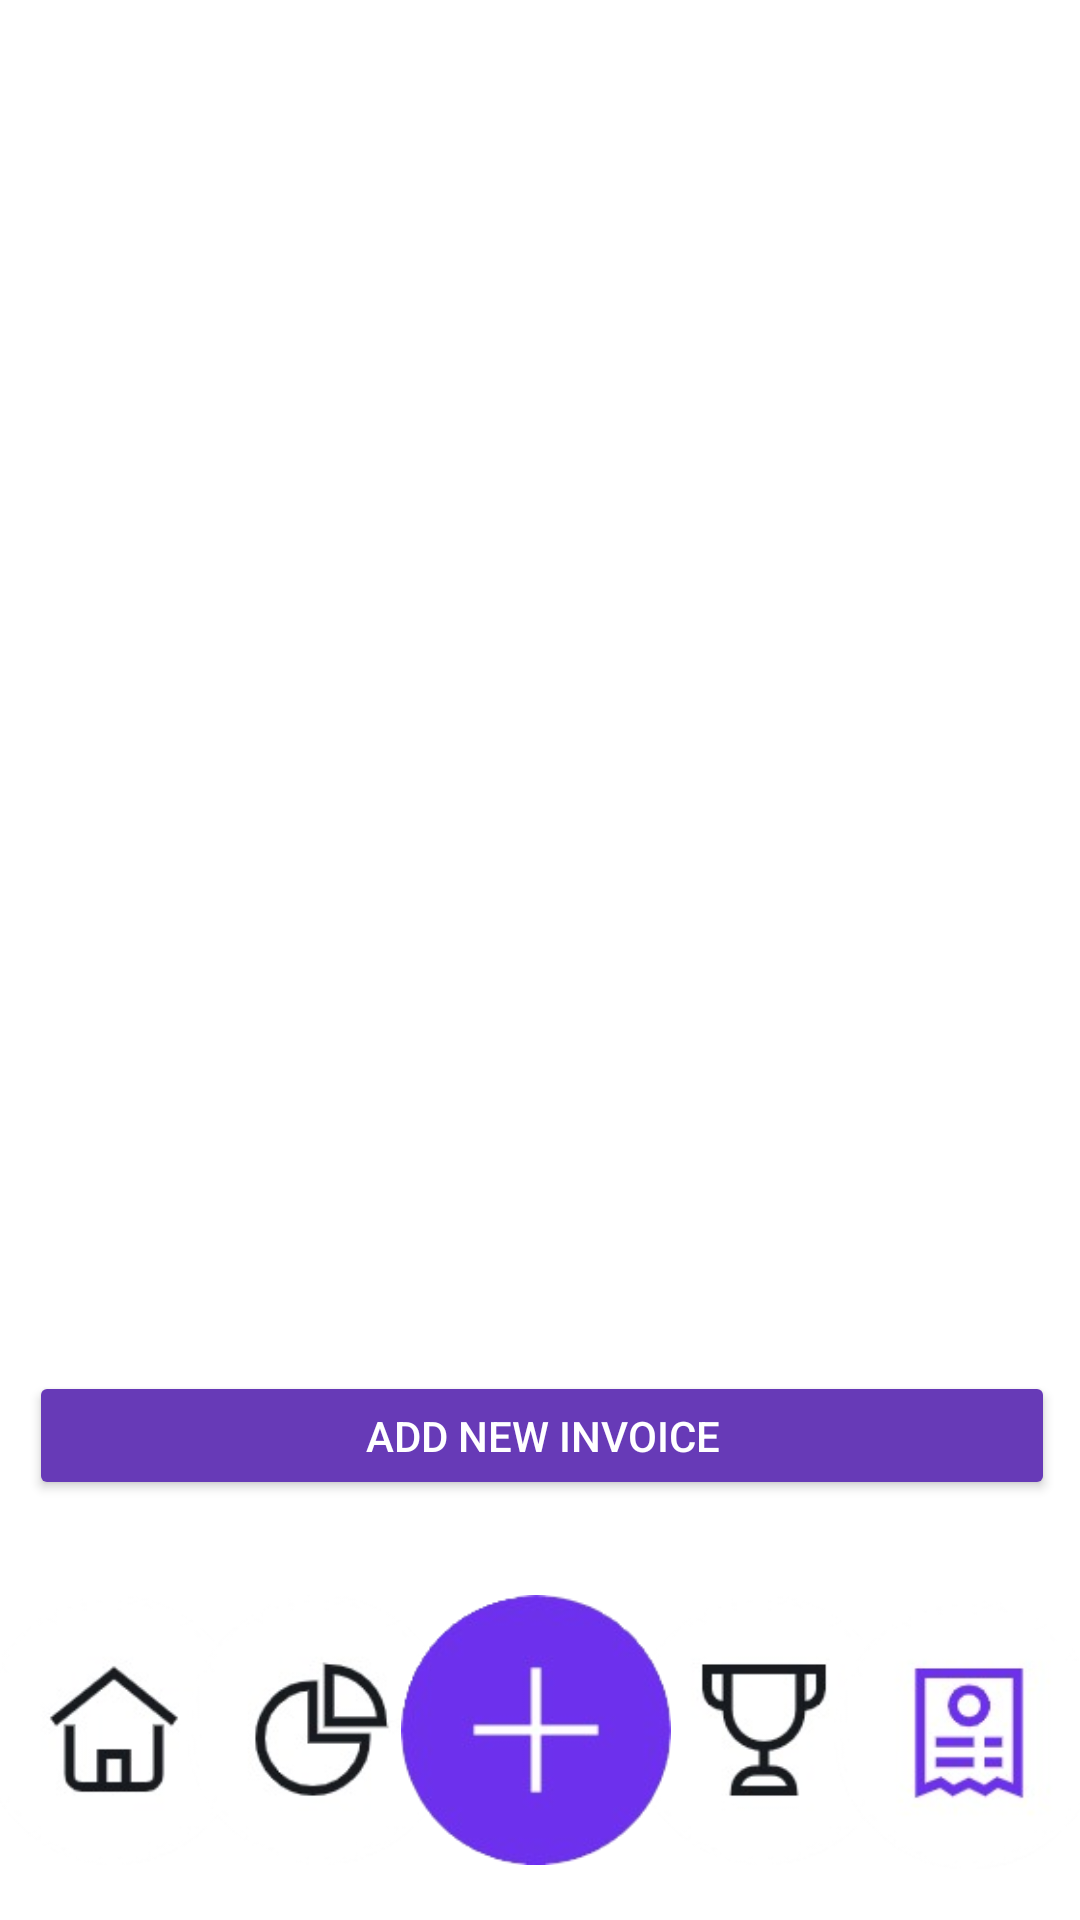

Icon click points for this 1080×1920 phone screenshot, format (x=x, y=y):
bill on: (x=969, y=1733)
chal: (x=764, y=1730)
home: (x=114, y=1729)
stat: (x=355, y=1731)
